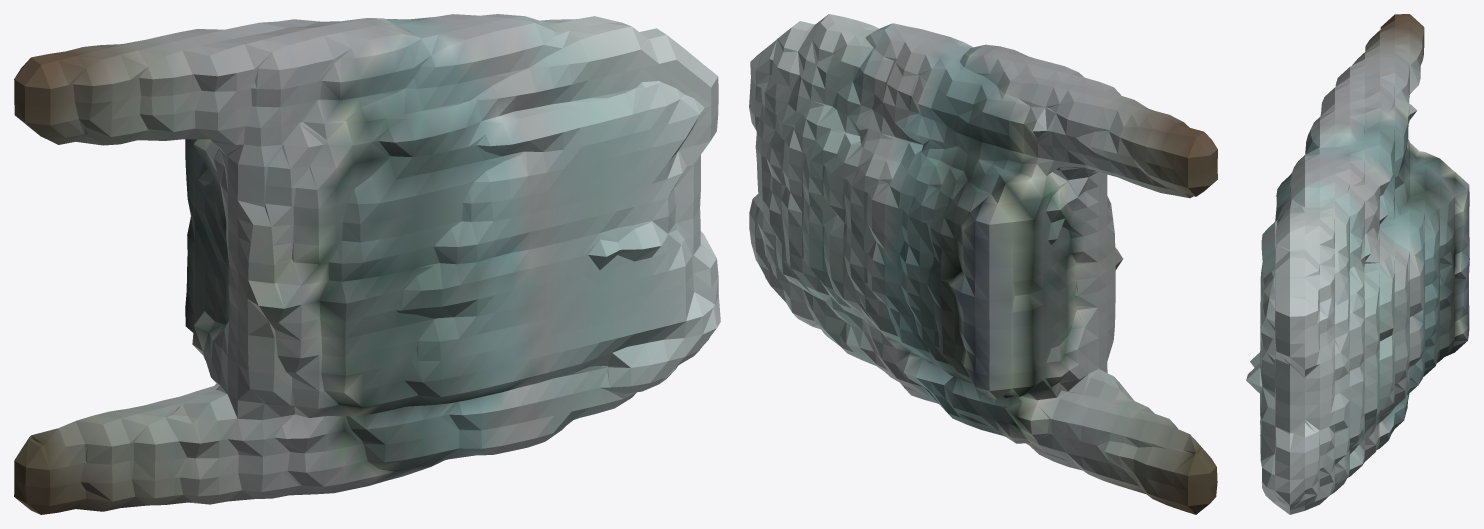
The model's file is producto-015.glb.
The picture shows the model from 3 angles, left to right: view 1: azimuth 30°, elevation 25°; view 2: azimuth 150°, elevation 25°; view 3: azimuth 270°, elevation 25°; orthographic projection. The views are drawn at different scales.
Visible parts, largest first — view 1: world; view 2: world; view 3: world.
Part boxes in pixels (<box>): world: <box>14,14,720,514</box>; world: <box>749,14,1217,514</box>; world: <box>1246,14,1469,514</box>.
Bounding box in the file's own units: 0.9934 × 0.6895 × 0.4119.
